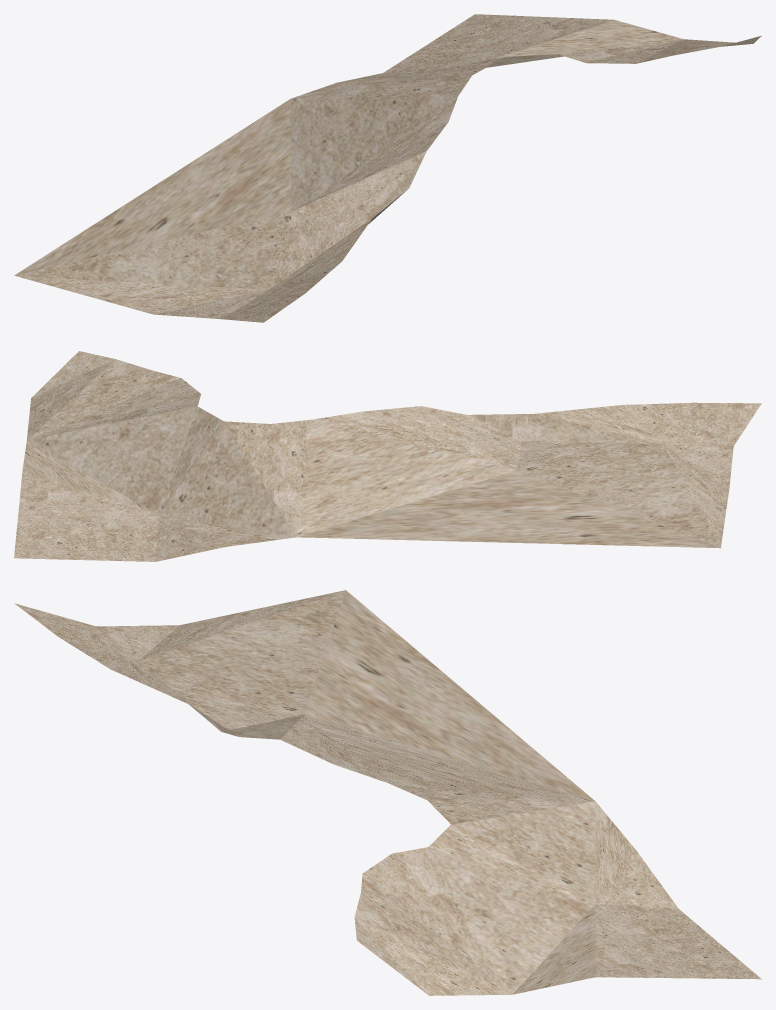
The model's file is lodseabed099.obj.
3 views of the same model, one above another, from view 1: azimuth 30°, elevation 25°; view 2: azimuth 150°, elevation 25°; view 3: azimuth 270°, elevation 25° (orthographic). The views are drawn at different scales.
Parts seen in each view (by area): view 1: lodseabed099; view 2: lodseabed099; view 3: lodseabed099.
Part boxes in pixels (left/top/right/bottom): lodseabed099: left=14, top=14, right=761, bottom=322; lodseabed099: left=14, top=351, right=761, bottom=561; lodseabed099: left=14, top=590, right=761, bottom=995.
Size of the model in its own units: 265 by 28.06 by 199.
